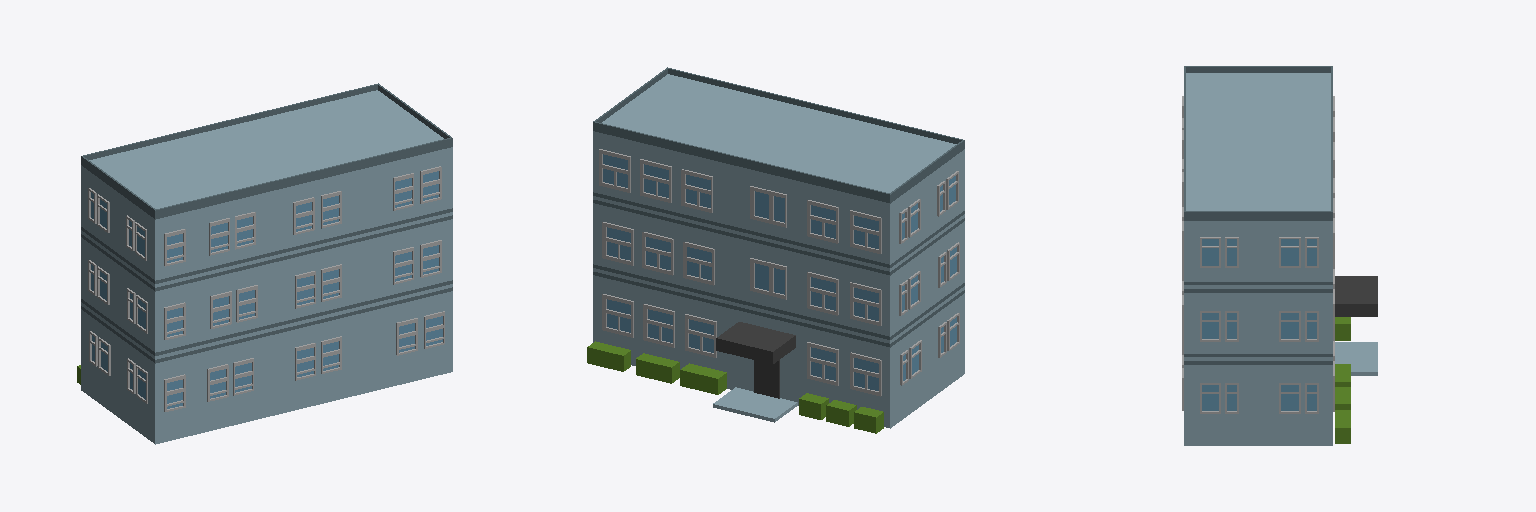
3 views of the same model, side by side, from view 1: azimuth 30°, elevation 25°; view 2: azimuth 150°, elevation 25°; view 3: azimuth 270°, elevation 25° (orthographic).
Visible parts, largest first — view 1: object 1; view 2: object 1; view 3: object 1.
Boxes of the visible parts, x1,y1,x2,y2 form: object 1: [77, 83, 452, 444]; object 1: [587, 67, 964, 433]; object 1: [1182, 66, 1377, 445].
Size of the model in its own units: 17.5 by 13 by 9.9.
Materials: 1 (1 with a texture image).